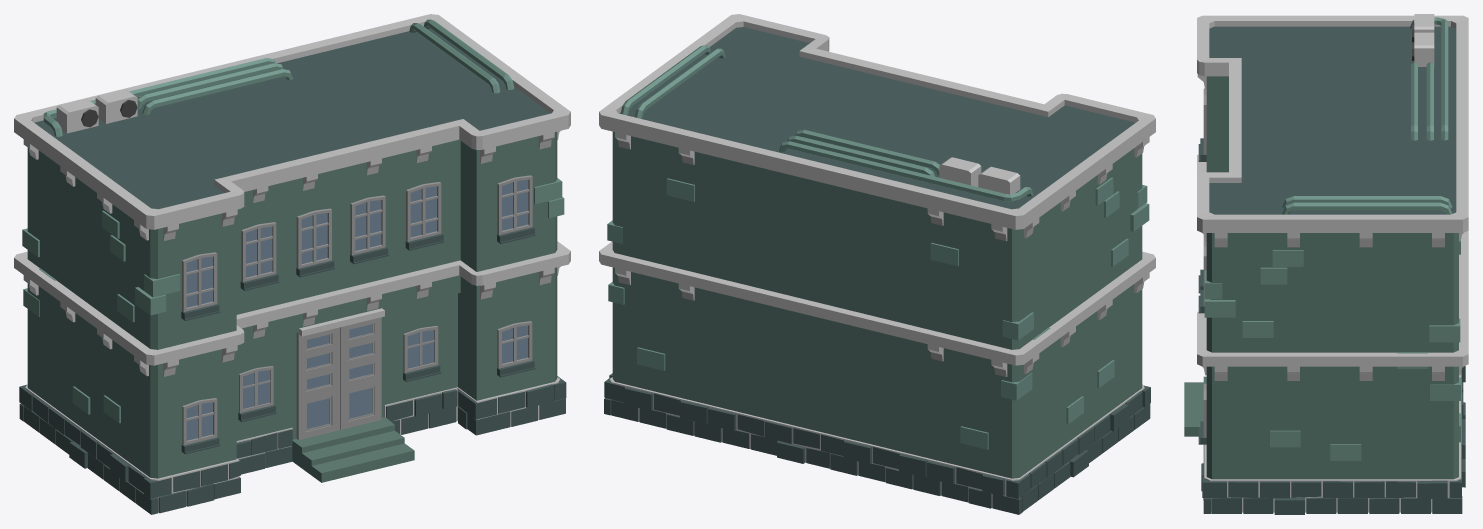
The model's file is 2Story_Wide_Mat.glb.
3 renders of one model, left to right at view 1: azimuth 30°, elevation 25°; view 2: azimuth 150°, elevation 25°; view 3: azimuth 270°, elevation 25°, orthographic.
Visible parts, largest first — view 1: 2Story_Wide_Mat; view 2: 2Story_Wide_Mat; view 3: 2Story_Wide_Mat.
Boxes of the visible parts, left/top/right/bottom form: 2Story_Wide_Mat: left=14, top=14, right=570, bottom=514; 2Story_Wide_Mat: left=599, top=14, right=1155, bottom=514; 2Story_Wide_Mat: left=1184, top=14, right=1468, bottom=514.
Size of the model in its own units: 3.83 by 2.75 by 2.26.
